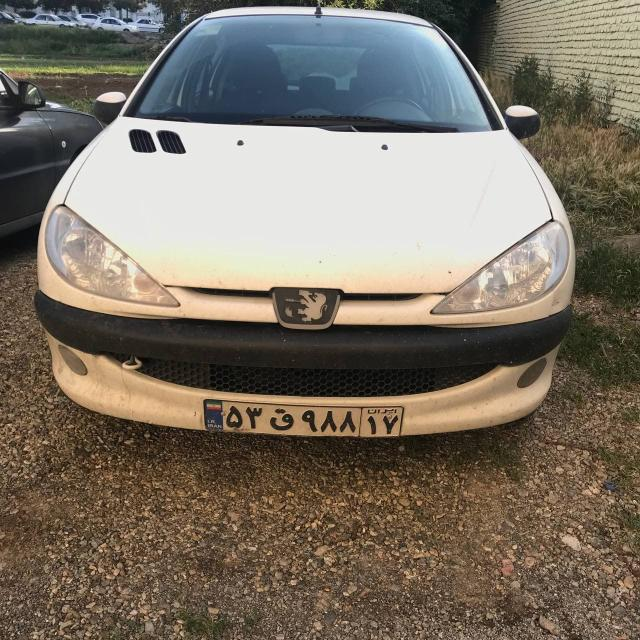Plates: (203, 399, 402, 439)
